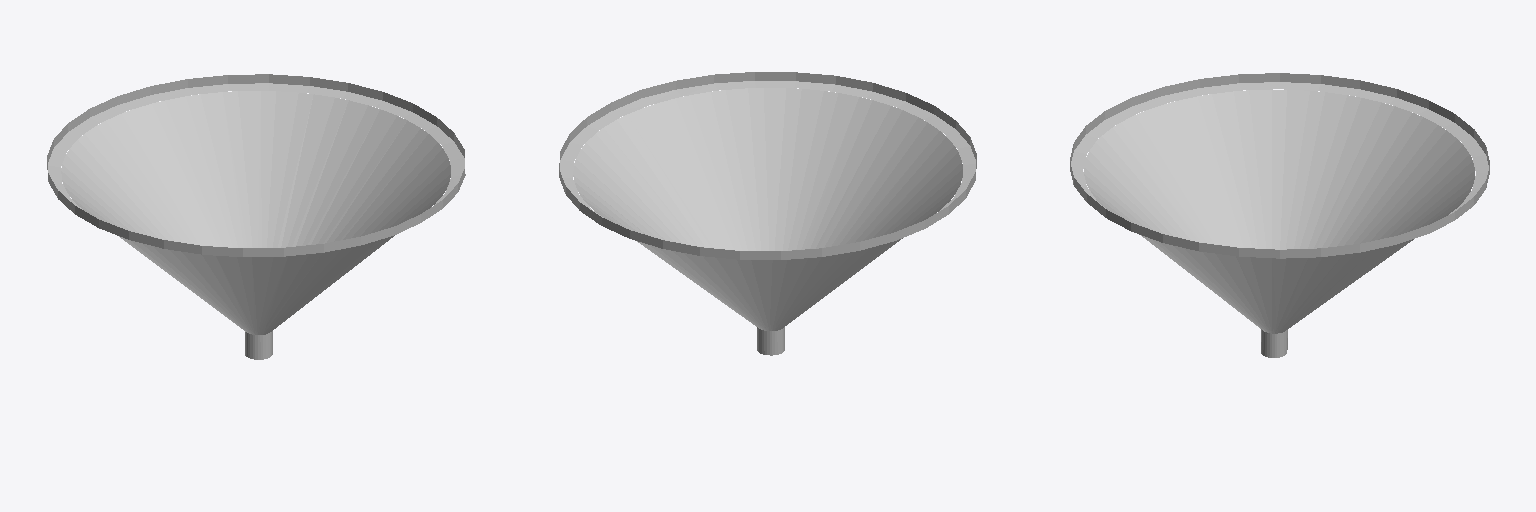
File: Funnel.obj
The picture shows the model from 3 angles: view 1: azimuth 30°, elevation 25°; view 2: azimuth 150°, elevation 25°; view 3: azimuth 270°, elevation 25°; orthographic projection.
Visible parts, largest first — view 1: Circle; view 2: Circle; view 3: Circle.
Boxes of the visible parts, box(x1,y1,x2,y2) form: Circle: box(47, 74, 465, 359); Circle: box(559, 72, 976, 355); Circle: box(1070, 73, 1489, 357).
Bounding box in the file's own units: 5.96 × 3.03 × 5.99.